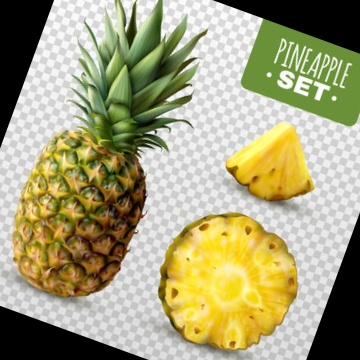Pineapple: (9, 1, 205, 301)
